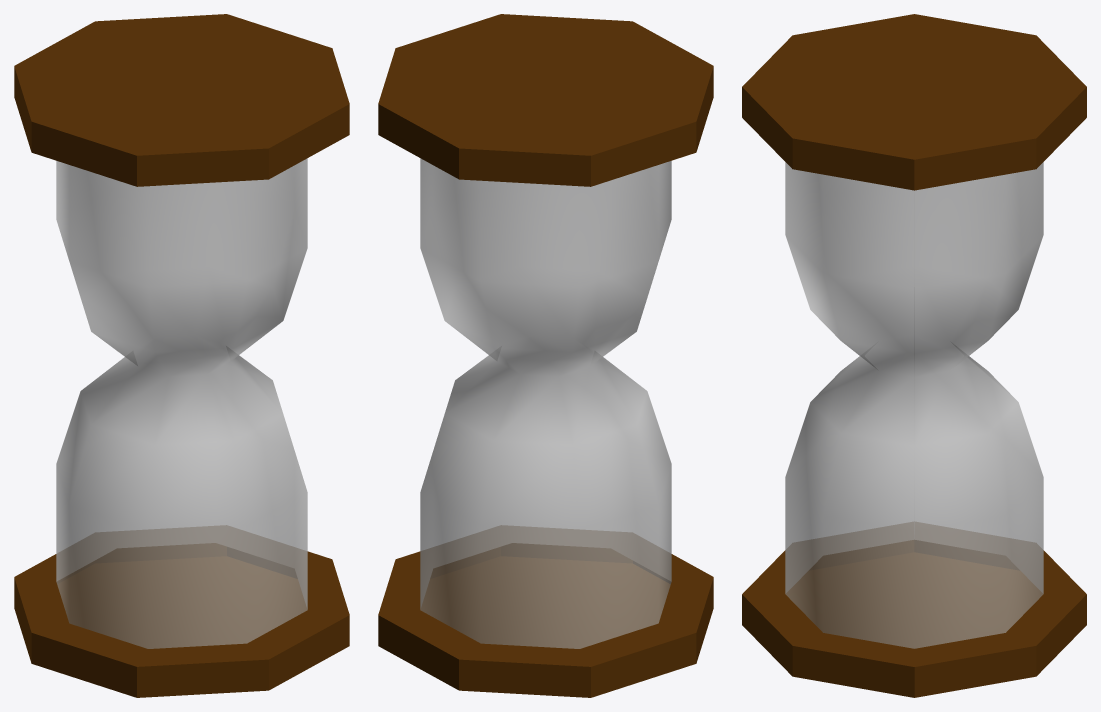
The model's file is Watch.fbx.
3 views of the same model, side by side, from view 1: azimuth 30°, elevation 25°; view 2: azimuth 150°, elevation 25°; view 3: azimuth 270°, elevation 25° (orthographic).
Visible parts, largest first — view 1: pCylinder1; view 2: pCylinder1; view 3: pCylinder1.
Boxes of the visible parts, <box> form: pCylinder1: <box>14,14,349,697</box>; pCylinder1: <box>378,14,713,697</box>; pCylinder1: <box>742,14,1086,697</box>.
Size of the model in its own units: 1.08 by 1.86 by 1.08.
